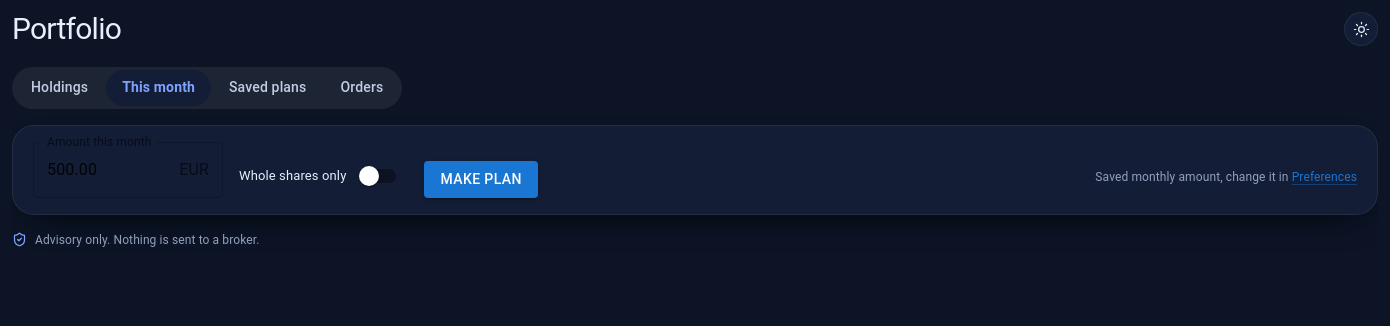
Scenario: Plan page › shows the API error readably
The image size is (1390, 326).
Click the button "Make plan".
click(481, 179)  # box [424,161,538,198]
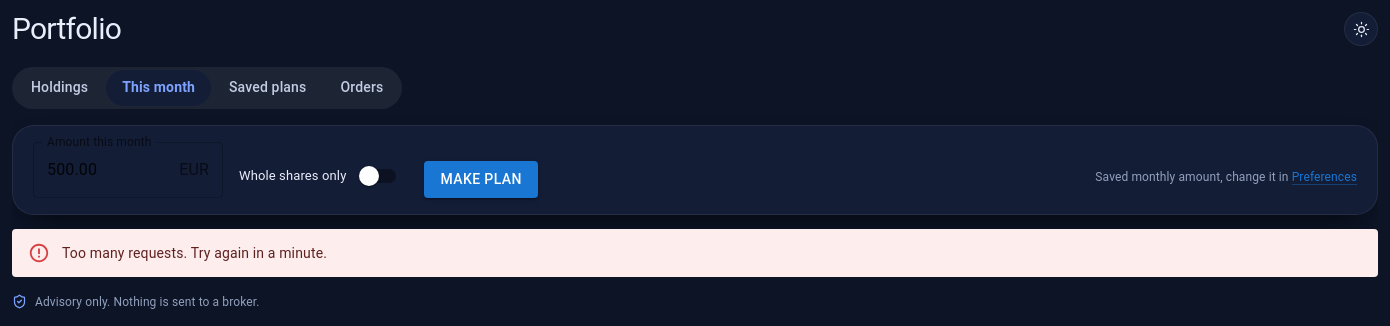
Expected: the text "Too many requests. Try again in a minute." is shown, [62,244,327,260]
